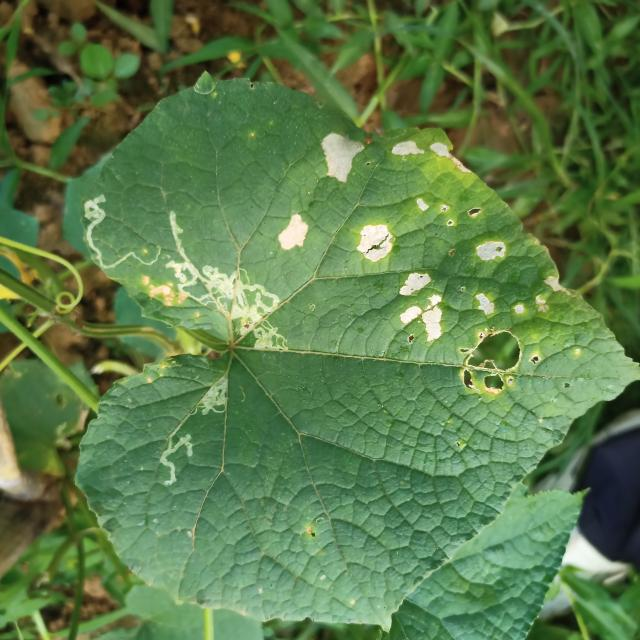disease_cucumber: (318, 118, 574, 394), (274, 209, 309, 255)
